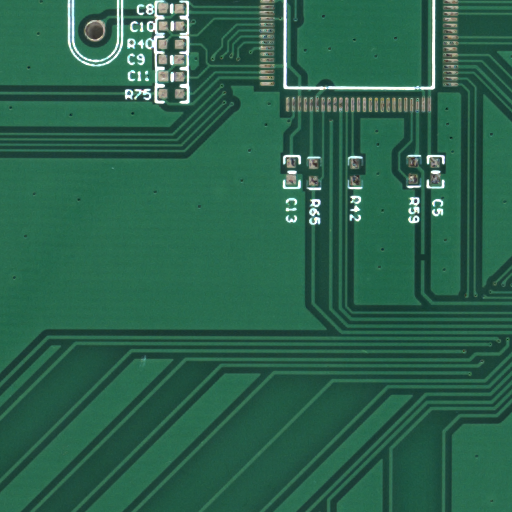Open_circuit: (422, 256, 435, 271)
